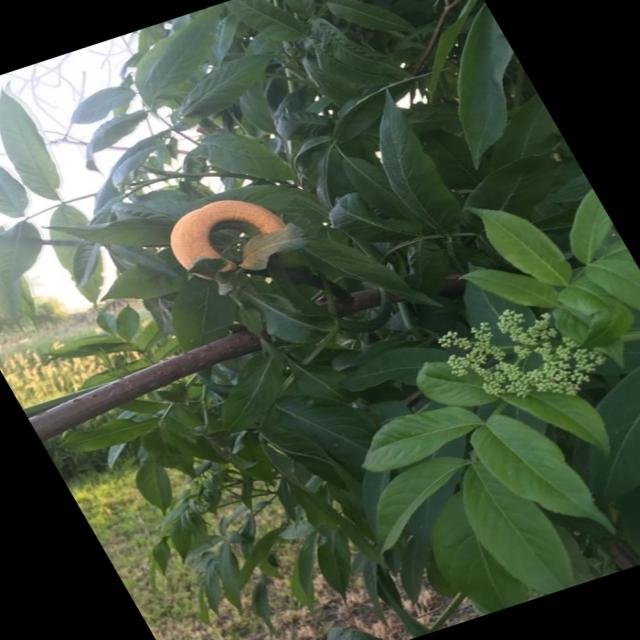Elderberry_rust: (135, 203, 336, 288)
